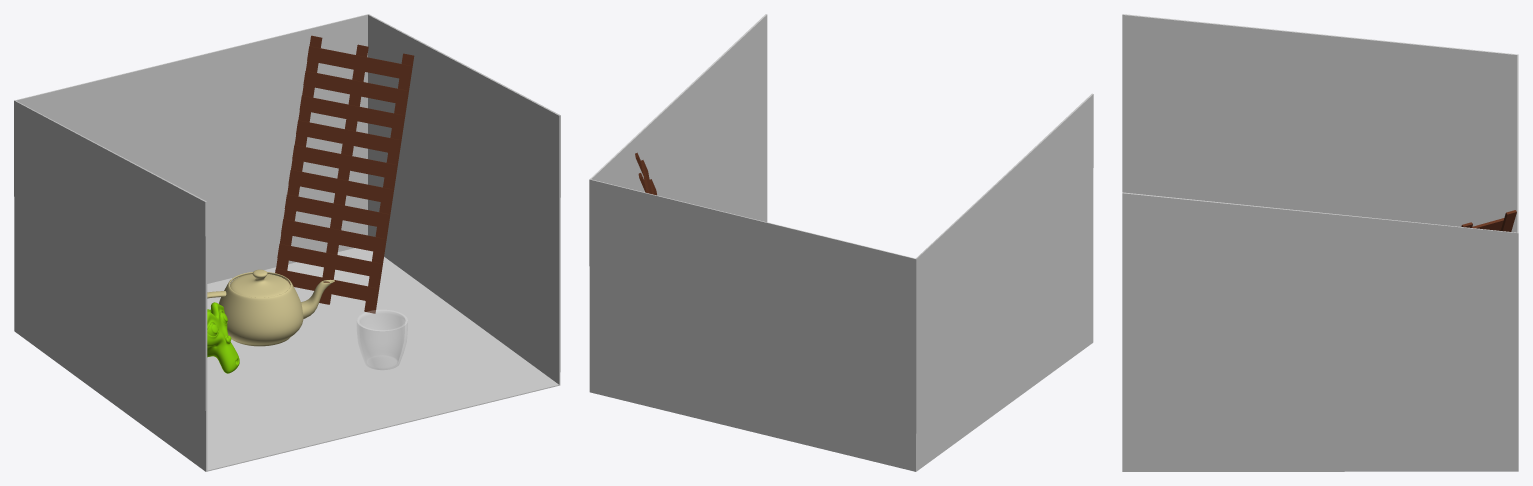
File: suzanne.glb
3 views of the same model, side by side, from view 1: azimuth 30°, elevation 25°; view 2: azimuth 150°, elevation 25°; view 3: azimuth 270°, elevation 25° (orthographic). The views are drawn at different scales.
Visible parts, largest first — view 1: Cube, trap, Teapot, Glass_Cylinder, Suzanne; view 2: Cube; view 3: Cube, trap.
Boxes of the visible parts, x1,y1,x2,y2 form: Cube: [14, 14, 560, 471]; trap: [275, 35, 414, 313]; Teapot: [207, 269, 334, 346]; Glass_Cylinder: [357, 310, 407, 369]; Suzanne: [207, 302, 239, 373]; Cube: [589, 14, 1093, 471]; Cube: [1122, 14, 1518, 471]; trap: [1461, 210, 1516, 231].
Bounding box in the file's own units: 9.94 × 7.21 × 9.29.
